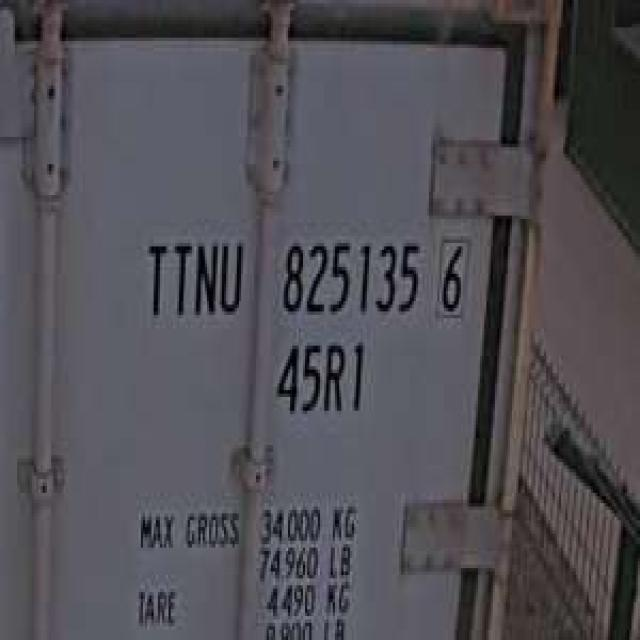dv: (431, 226, 471, 322)
owner: (138, 226, 248, 328)
serial: (276, 226, 422, 325)
size: (271, 332, 371, 424)
